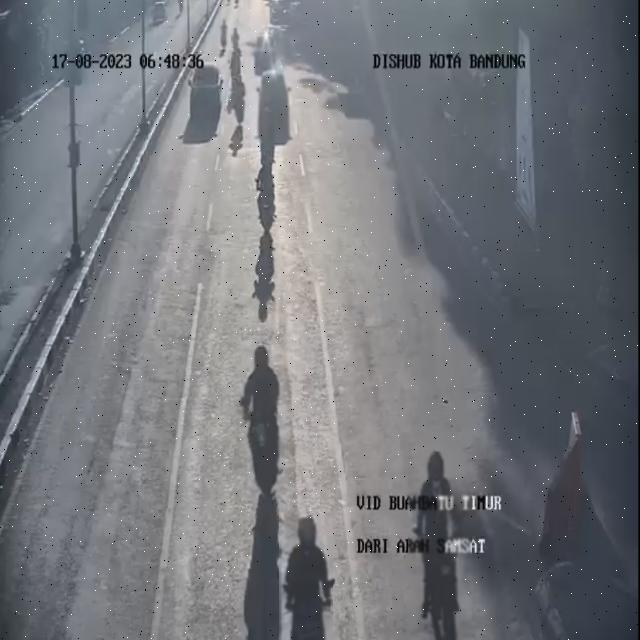cars: (253, 67, 297, 143), (188, 57, 224, 129), (251, 34, 280, 75)
motorcycle: (408, 452, 472, 640), (234, 346, 292, 500), (279, 515, 333, 640), (253, 137, 280, 239), (255, 104, 278, 158), (228, 72, 248, 130), (228, 48, 244, 85), (217, 17, 231, 49), (232, 28, 244, 58)
